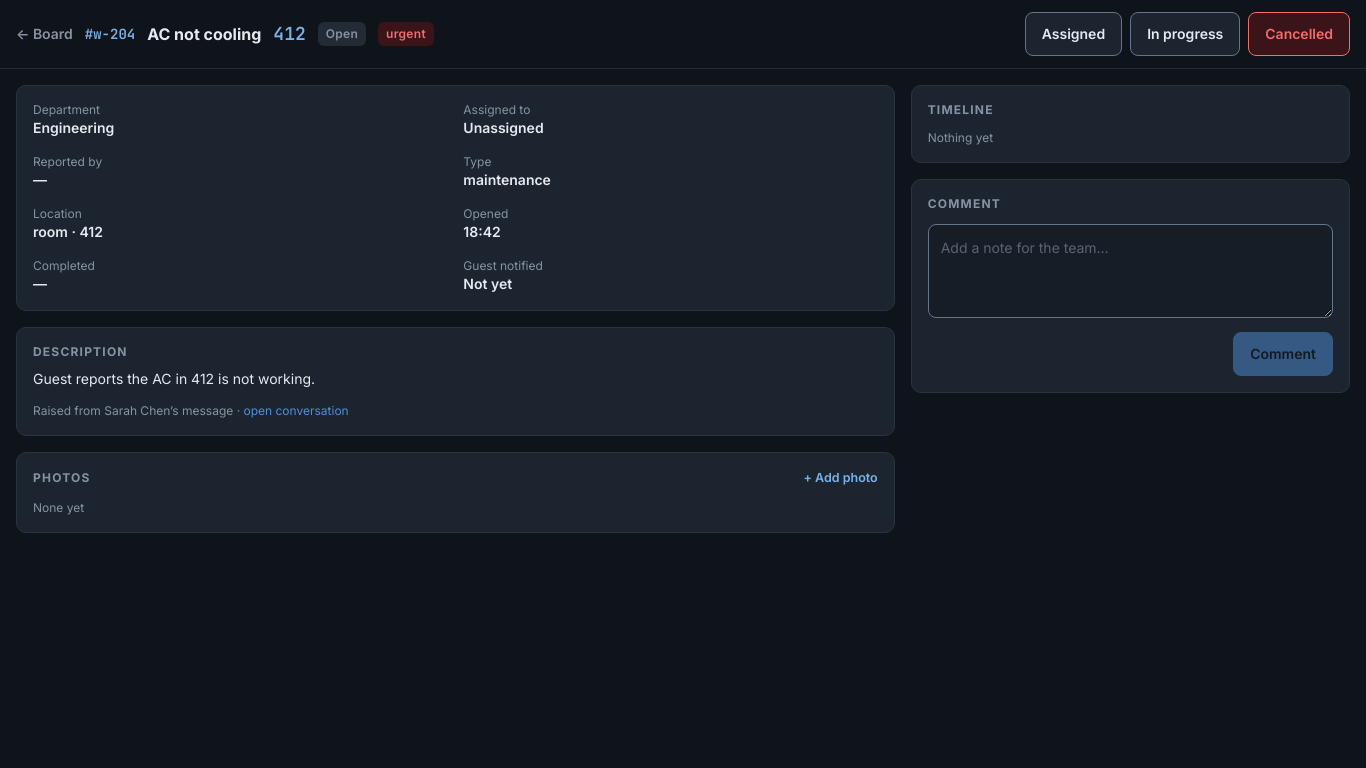
WorkOrderDetailPage › posts a standalone comment and shows it in the timeline
The width and height of the screenshot is (1366, 768).
In the text box named "Comment": {"x": 1130, "y": 271} [928, 224, 1333, 318], type "Parts ordered, ETA Thursday"
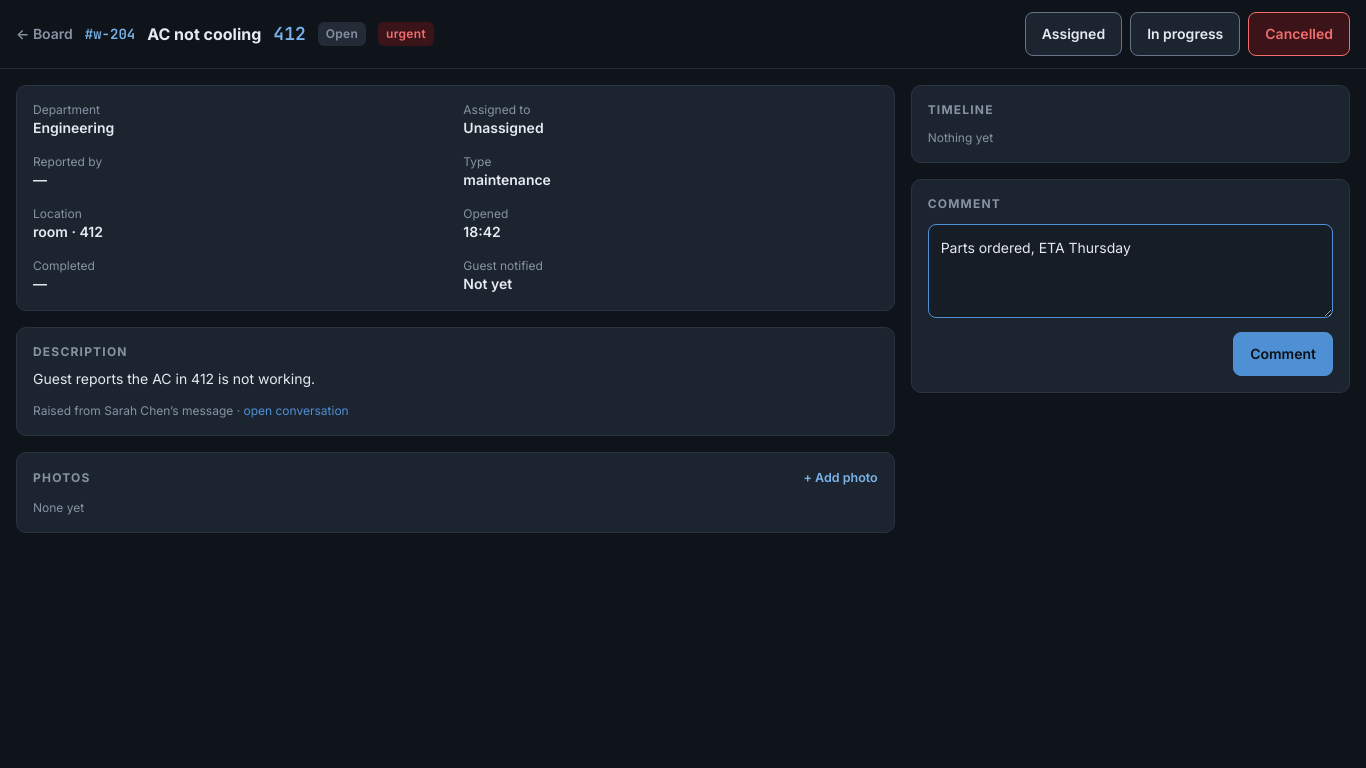
Click the button "Comment": {"x": 1283, "y": 354} [1233, 332, 1333, 376]
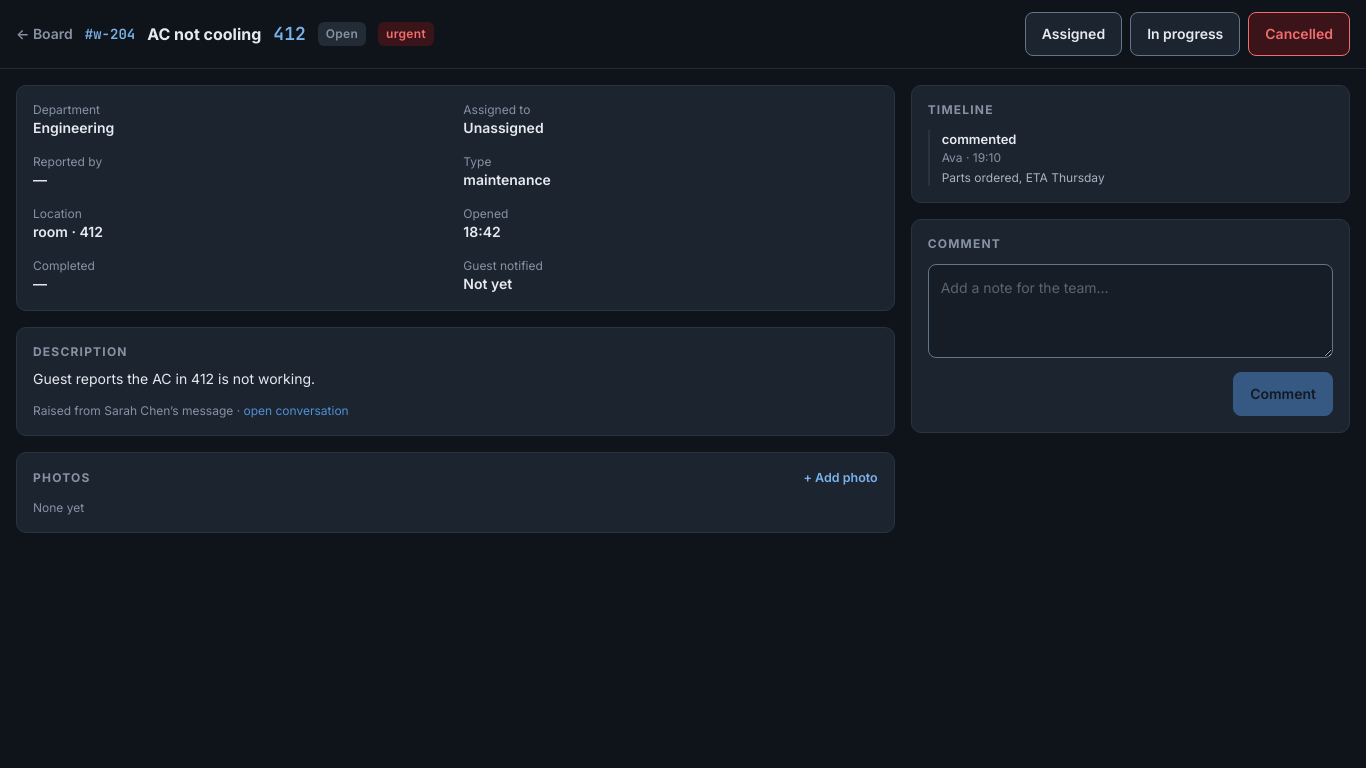
Check: the text box named "Comment" is empty, box [928, 264, 1333, 358]
Check: the list item shows "Parts ordered, ETA Thursday", box [942, 170, 1105, 184]
